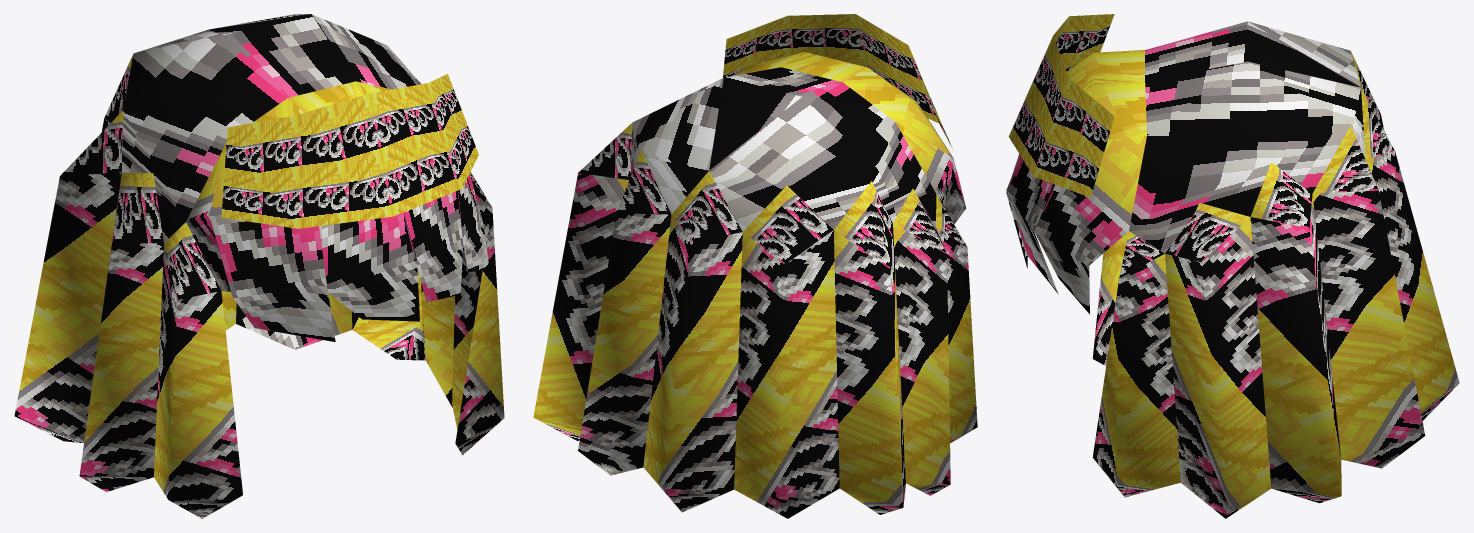
Rendered from code_head70.gltf.
3 renders of one model, left to right at view 1: azimuth 30°, elevation 25°; view 2: azimuth 150°, elevation 25°; view 3: azimuth 270°, elevation 25°, orthographic. The views are drawn at different scales.
Parts seen in each view (by area): view 1: code_head70; view 2: code_head70; view 3: code_head70.
Boxes of the visible parts, bbox=[...] form: code_head70: bbox=[14, 14, 504, 518]; code_head70: bbox=[533, 14, 977, 518]; code_head70: bbox=[1006, 14, 1459, 518].
Bounding box in the file's own units: 0.9204 × 0.9114 × 0.9297.
1 material, 1 textured.
